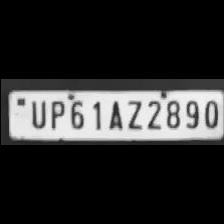0: (200, 97, 220, 129)
1: (86, 98, 104, 130)
2: (141, 97, 161, 130)
6: (64, 97, 86, 130)
8: (163, 97, 181, 130)
9: (182, 97, 200, 129)
A: (103, 97, 123, 130)
P: (46, 97, 64, 130)
U: (26, 98, 46, 130)
Z: (122, 97, 142, 130)
